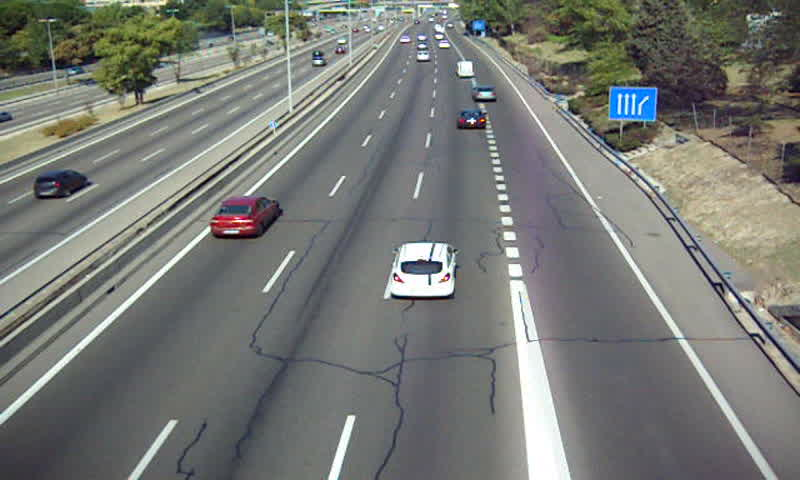car: (392, 243, 455, 297), (209, 197, 278, 240), (456, 108, 488, 130), (473, 86, 497, 103)
van: (456, 60, 474, 77)
